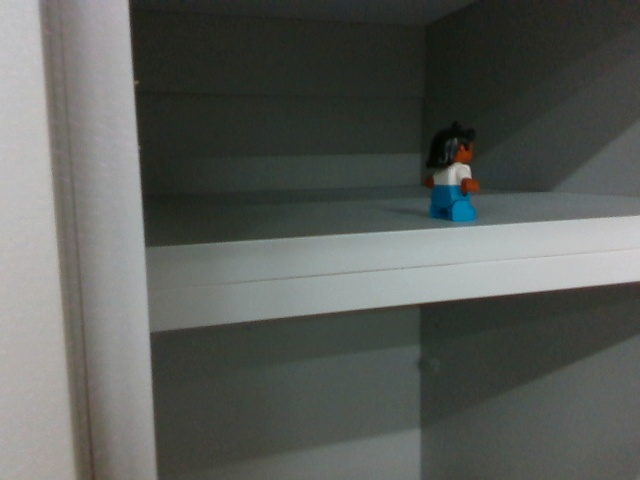people: (422, 123, 479, 226)
